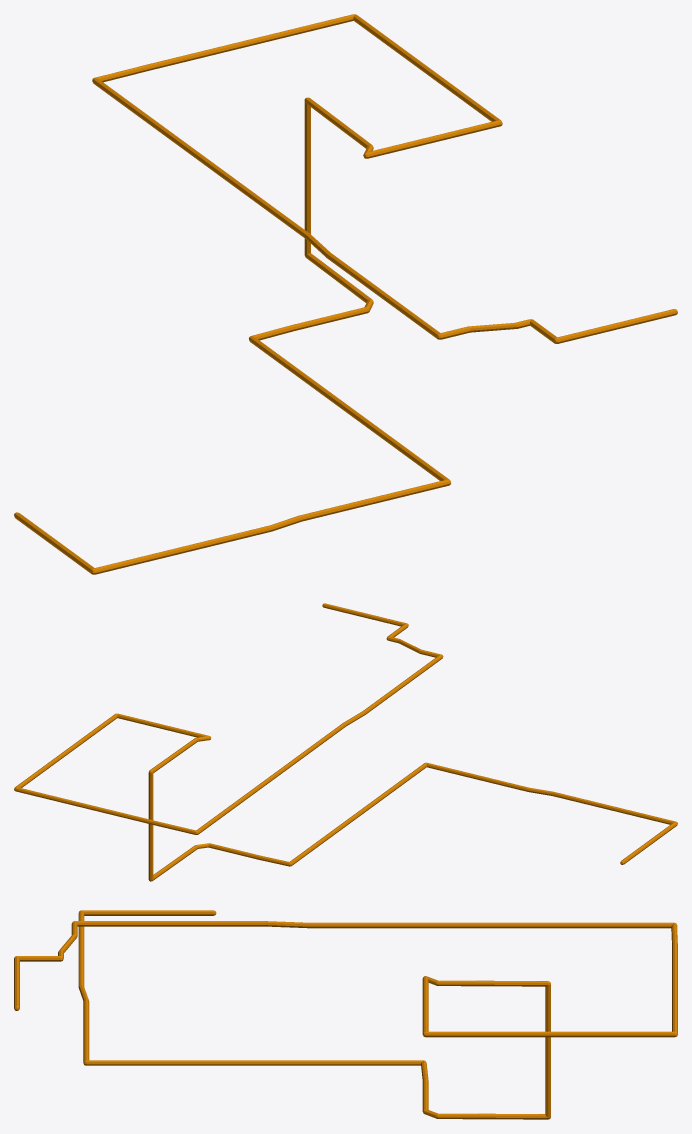
3 renders of one model, top to bottom at view 1: azimuth 30°, elevation 25°; view 2: azimuth 150°, elevation 25°; view 3: azimuth 270°, elevation 25°, orthographic. The views are drawn at different scales.
Bounding box in the file's own units: 2071 × 520 × 2263.
